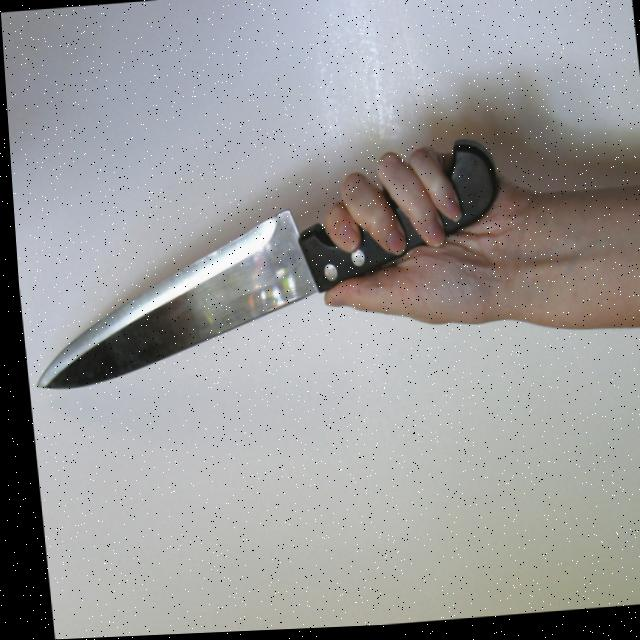knife: (9, 140, 508, 392)
